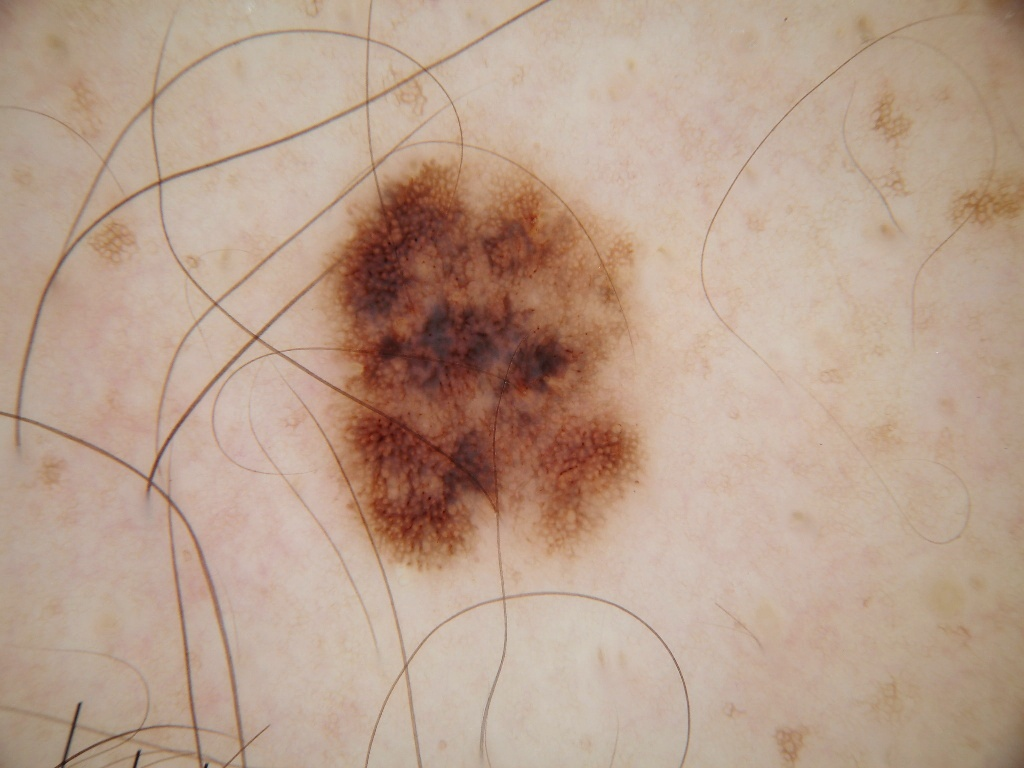Detected Lesion: (315, 147, 662, 584)
